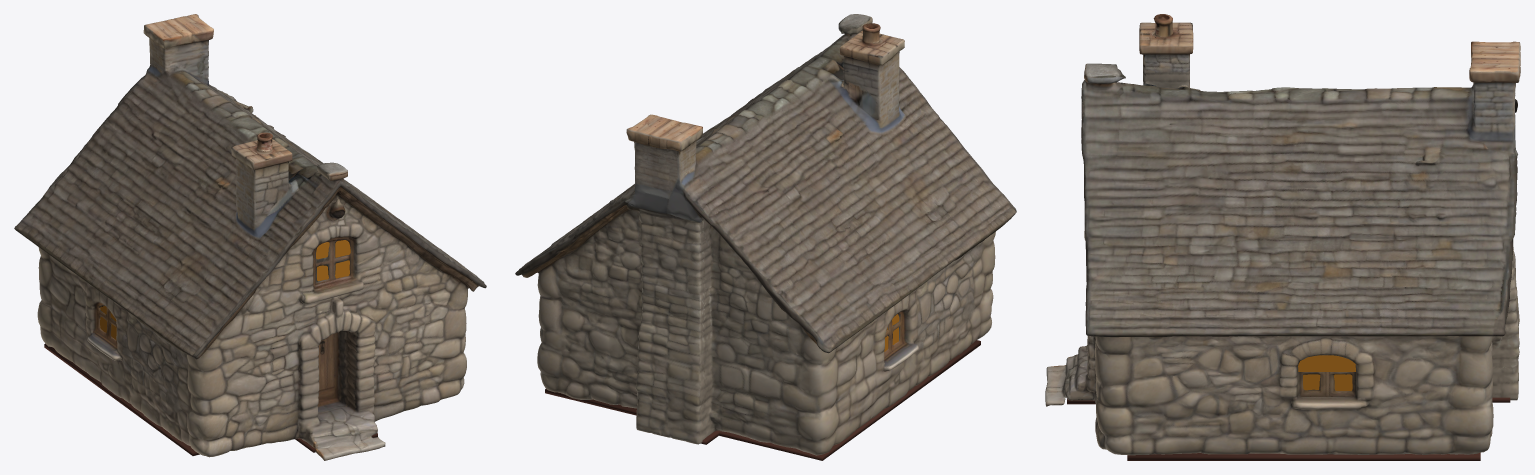
The model's file is stone_house_exterior.glb.
3 views of the same model, side by side, from view 1: azimuth 30°, elevation 25°; view 2: azimuth 150°, elevation 25°; view 3: azimuth 270°, elevation 25° (orthographic). The views are drawn at different scales.
Parts seen in each view (by area): view 1: Mesh_0; view 2: Mesh_0; view 3: Mesh_0.
Boxes of the visible parts, bbox=[...] form: Mesh_0: bbox=[14, 14, 486, 460]; Mesh_0: bbox=[515, 14, 1016, 460]; Mesh_0: bbox=[1045, 14, 1520, 460].
Size of the model in its own units: 8.52 by 8.06 by 9.9.
3 materials, 1 textured.
